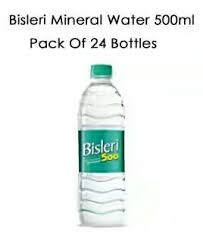Bisleri: (82, 141, 120, 153)
plastic: (83, 95, 123, 224)
